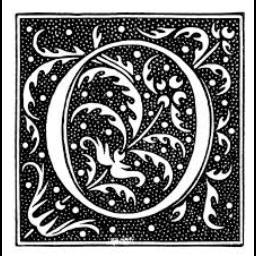o: (46, 36, 228, 226)
